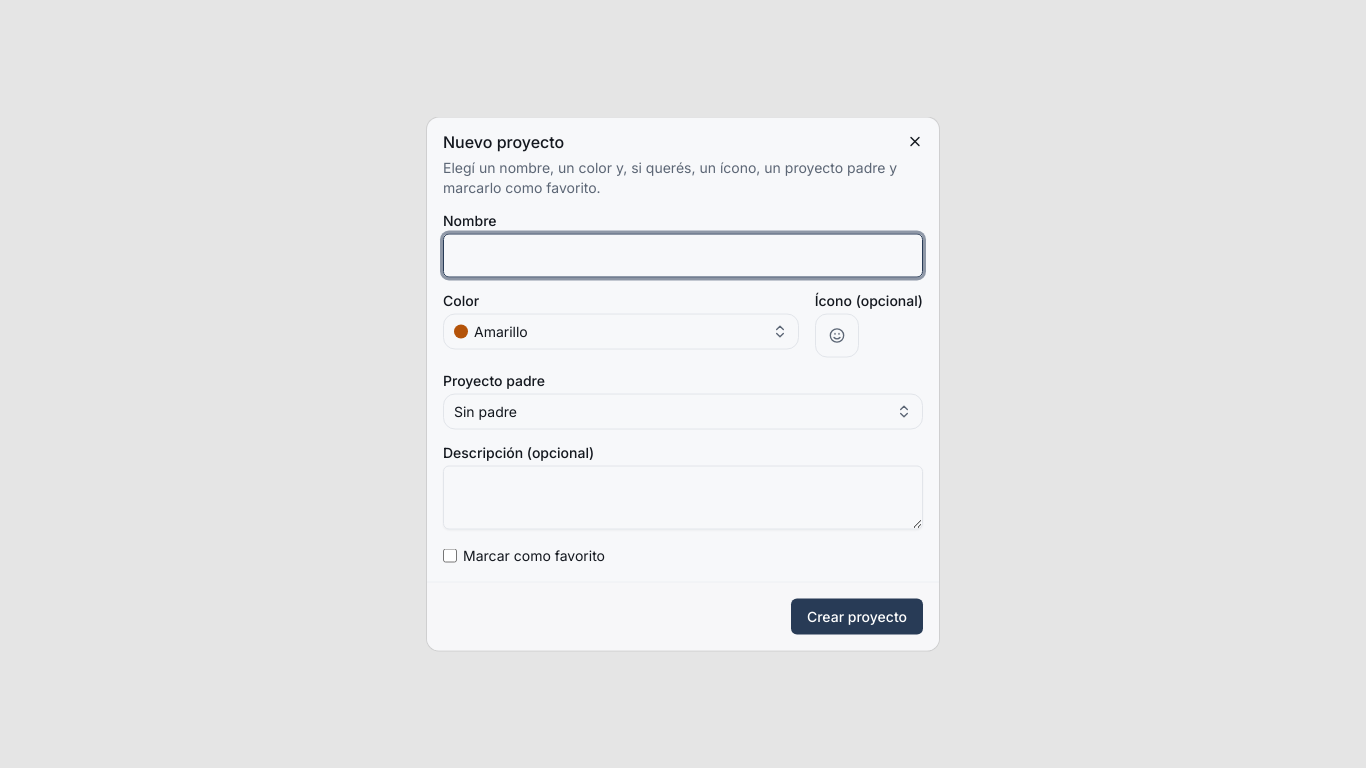
Test: ProjectFormDialog › muestra un error de validación cuando falta el nombre y no crea el proyecto
This screenshot has width=1366, height=768.
Click the button "Crear proyecto" at (857, 616), box [791,598,923,634]
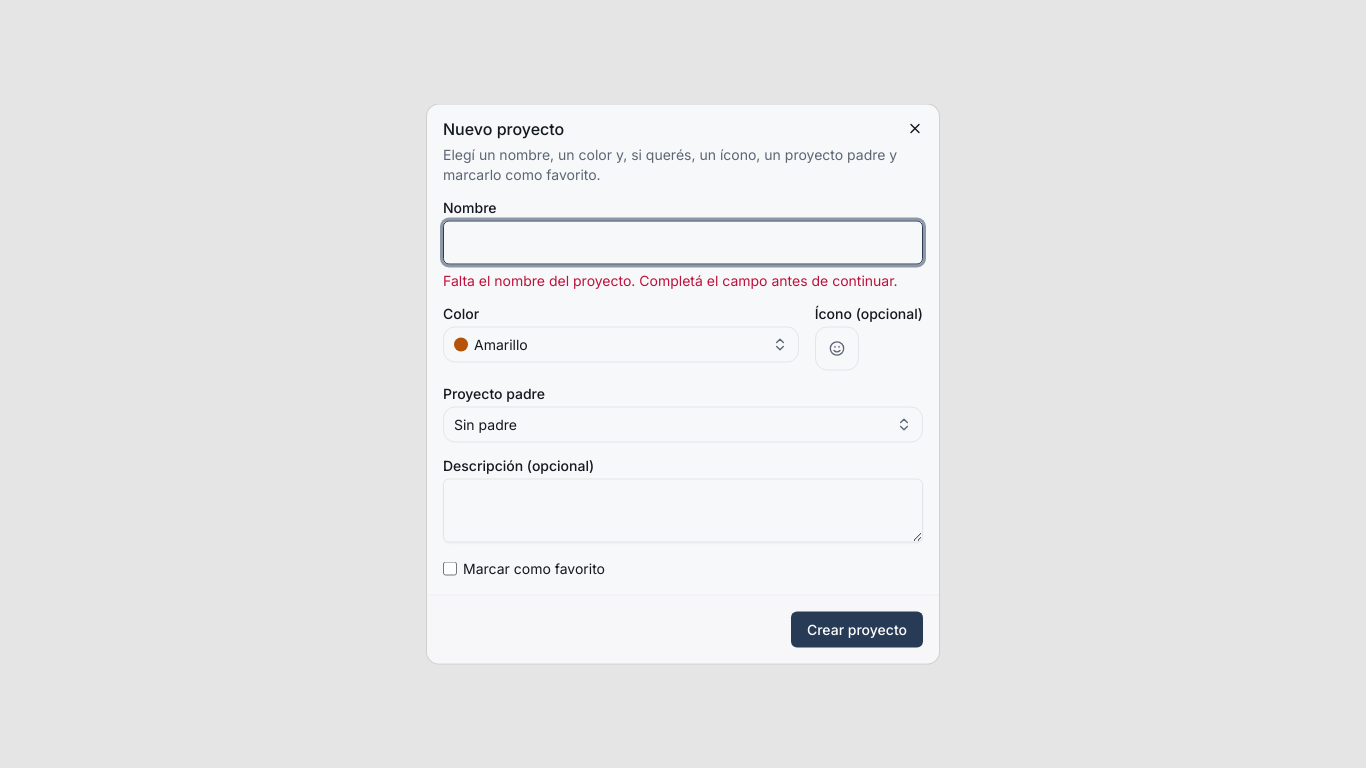
Expected: the text "Falta el nombre del proyecto. Completá el campo antes de continuar." is shown, [443,270,923,290]
